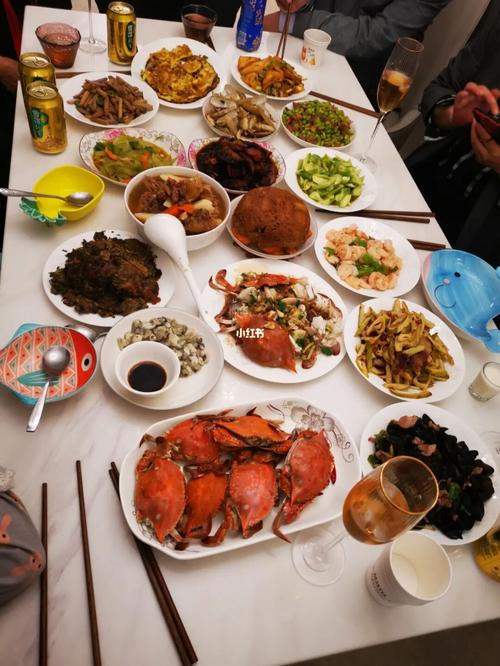food: (114, 393, 356, 551), (349, 400, 496, 543), (205, 256, 348, 385), (96, 295, 227, 411), (346, 289, 464, 405), (41, 220, 170, 326), (123, 159, 236, 246), (312, 215, 422, 296), (225, 183, 314, 261), (78, 124, 185, 185), (136, 30, 221, 105), (188, 133, 287, 193), (64, 69, 160, 129), (290, 143, 373, 211), (280, 92, 359, 151), (235, 46, 308, 105)
